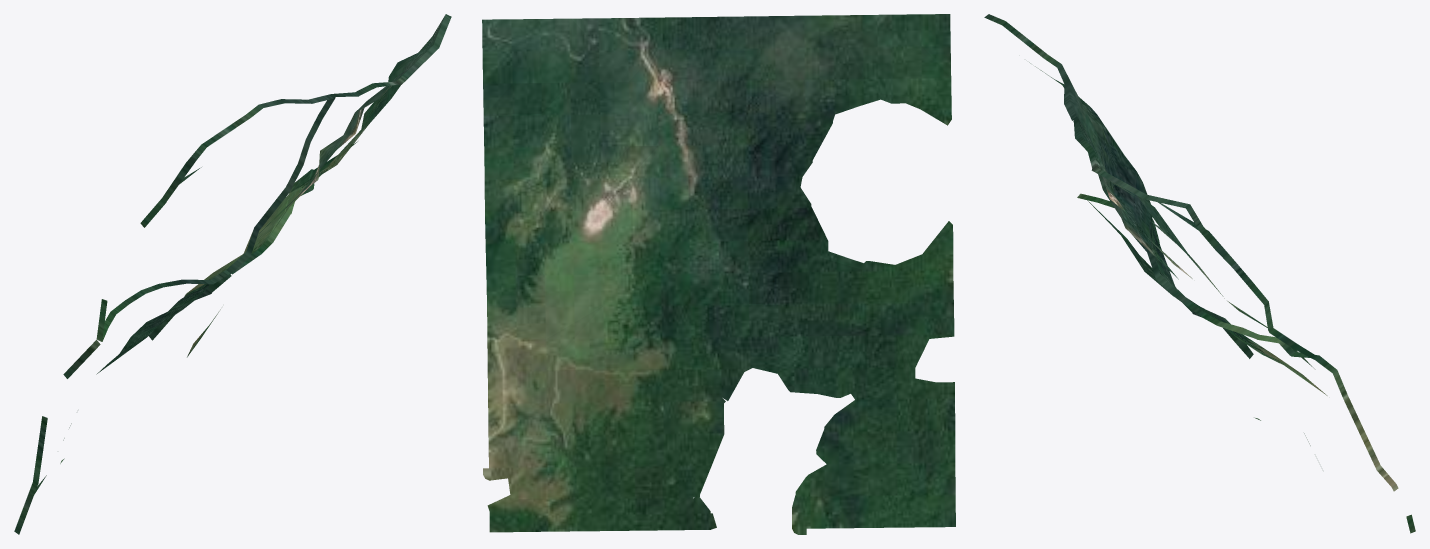
3 views of the same model, side by side, from view 1: azimuth 30°, elevation 25°; view 2: azimuth 150°, elevation 25°; view 3: azimuth 270°, elevation 25° (orthographic). The views are drawn at different scales.
Bounding box in the file's own units: 2533 × 2251 × 2112.
Materials: 1 (1 with a texture image).
